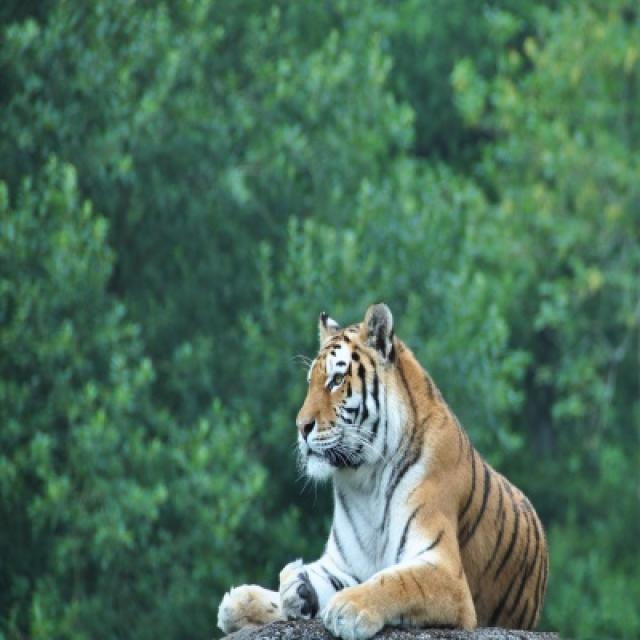Tiger: (219, 302, 547, 638)
